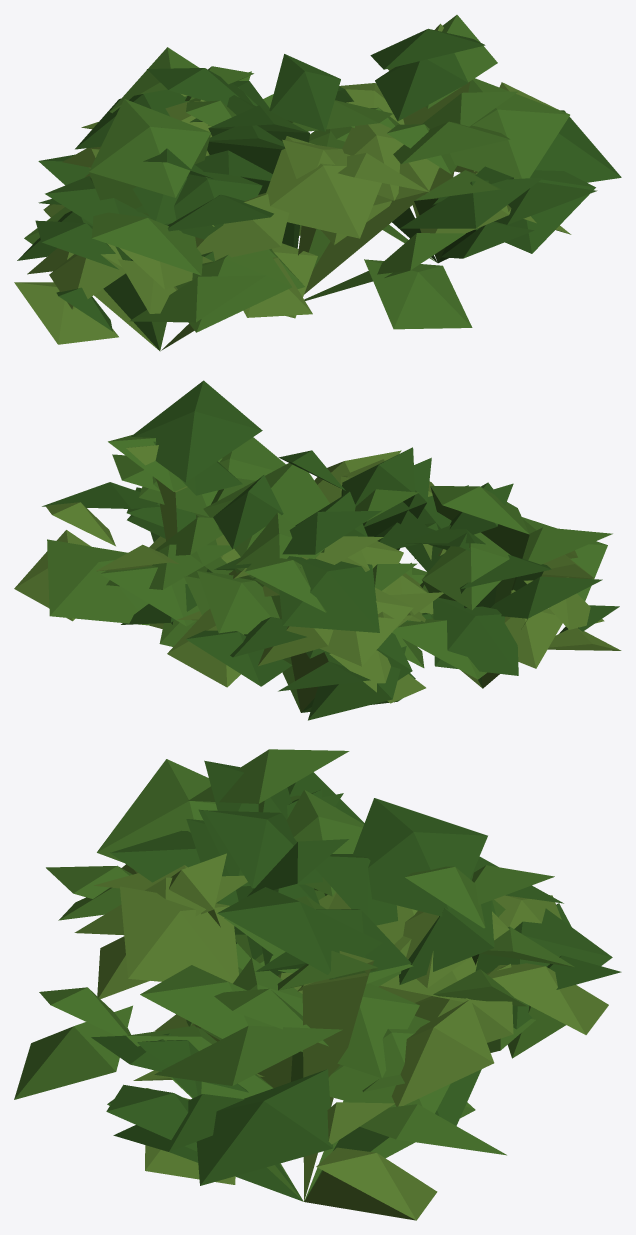
File: shrine-forest-understory.obj
3 renders of one model, top to bottom at view 1: azimuth 30°, elevation 25°; view 2: azimuth 150°, elevation 25°; view 3: azimuth 270°, elevation 25°, orthographic. The views are drawn at different scales.
Bounding box in the file's own units: 2.7 × 1.09 × 2.02.
